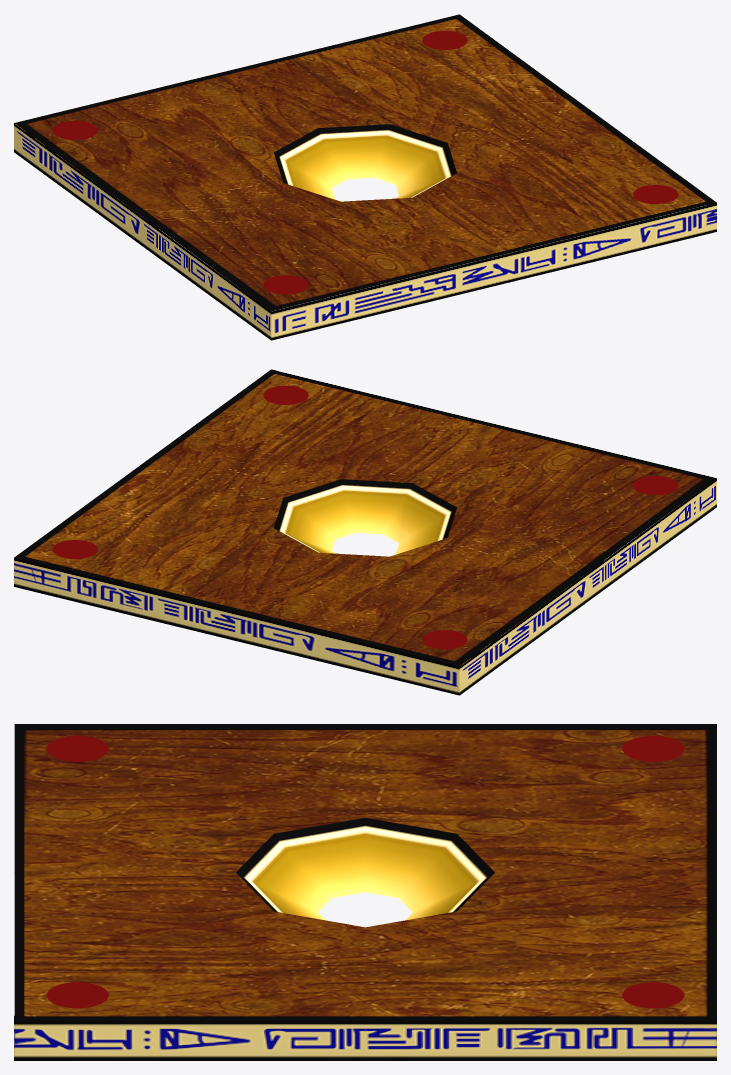
The model's file is jungle_hole.gltf.
3 views of the same model, one above another, from view 1: azimuth 30°, elevation 25°; view 2: azimuth 150°, elevation 25°; view 3: azimuth 270°, elevation 25° (orthographic). The views are drawn at different scales.
Parts seen in each view (by area): view 1: jungle_hole_glb; view 2: jungle_hole_glb; view 3: jungle_hole_glb.
Boxes of the visible parts, x1,y1,x2,y2 form: jungle_hole_glb: (14,14,716,340); jungle_hole_glb: (14,369,716,695); jungle_hole_glb: (14,724,716,1060).
Size of what is drawn, in the model's own units: 4 by 0.2531 by 4.
Materials: 2 (2 with a texture image).
